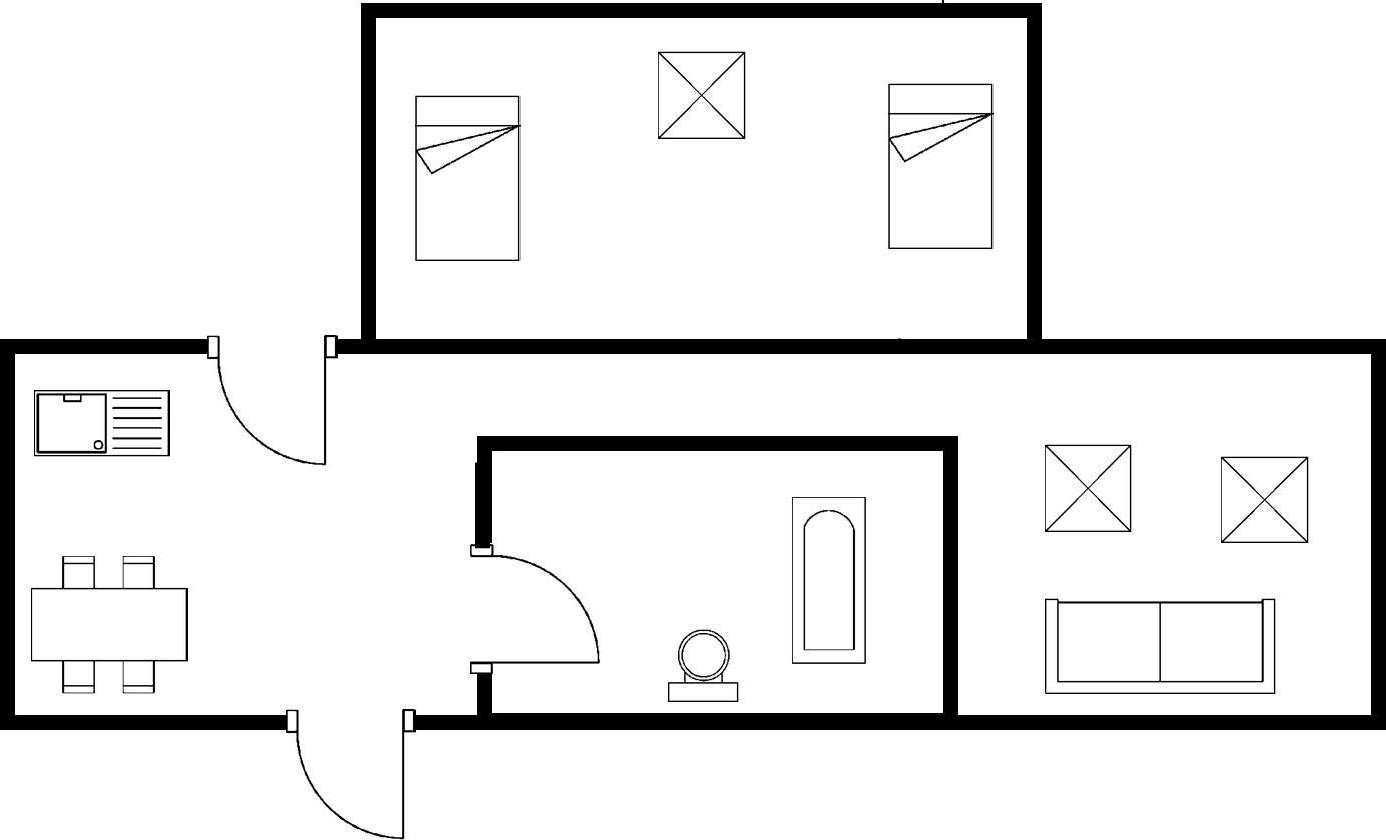bed: (881, 76, 999, 258), (411, 87, 528, 265)
dining_table: (25, 548, 197, 700)
sink: (27, 383, 176, 463)
sofa: (1040, 592, 1282, 700)
toilet: (662, 621, 744, 708)
tub: (786, 491, 873, 671)
